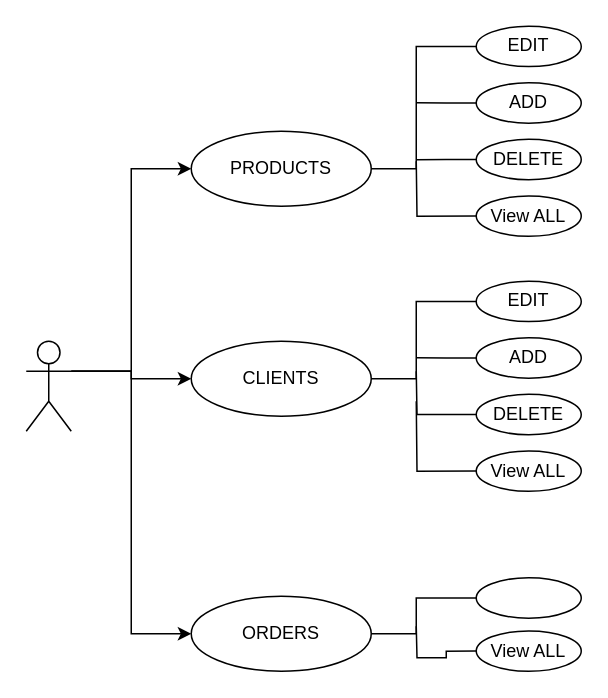
This 608x698 diagram has some shape labels left out. The centre of each missing label's shape, as x and y in pixels:
Actor: point (48, 385)
ORDER: point (528, 597)
